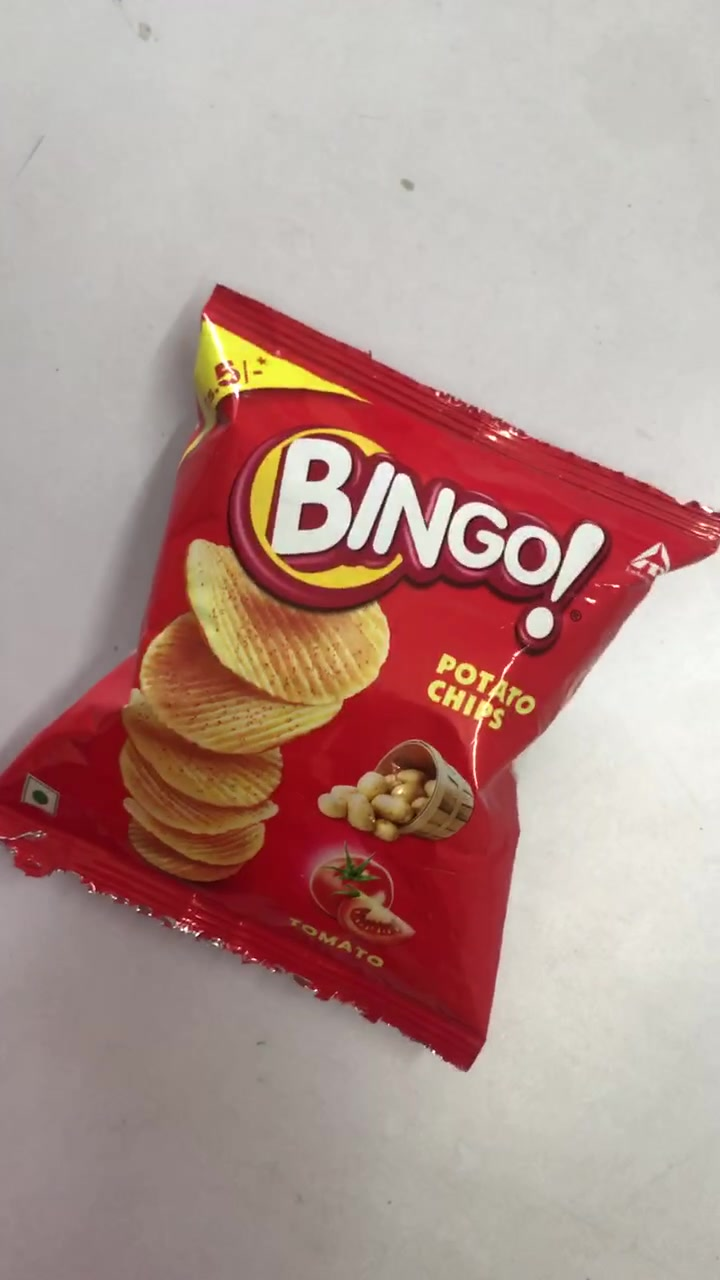Bingo: (13, 288, 720, 1054)
